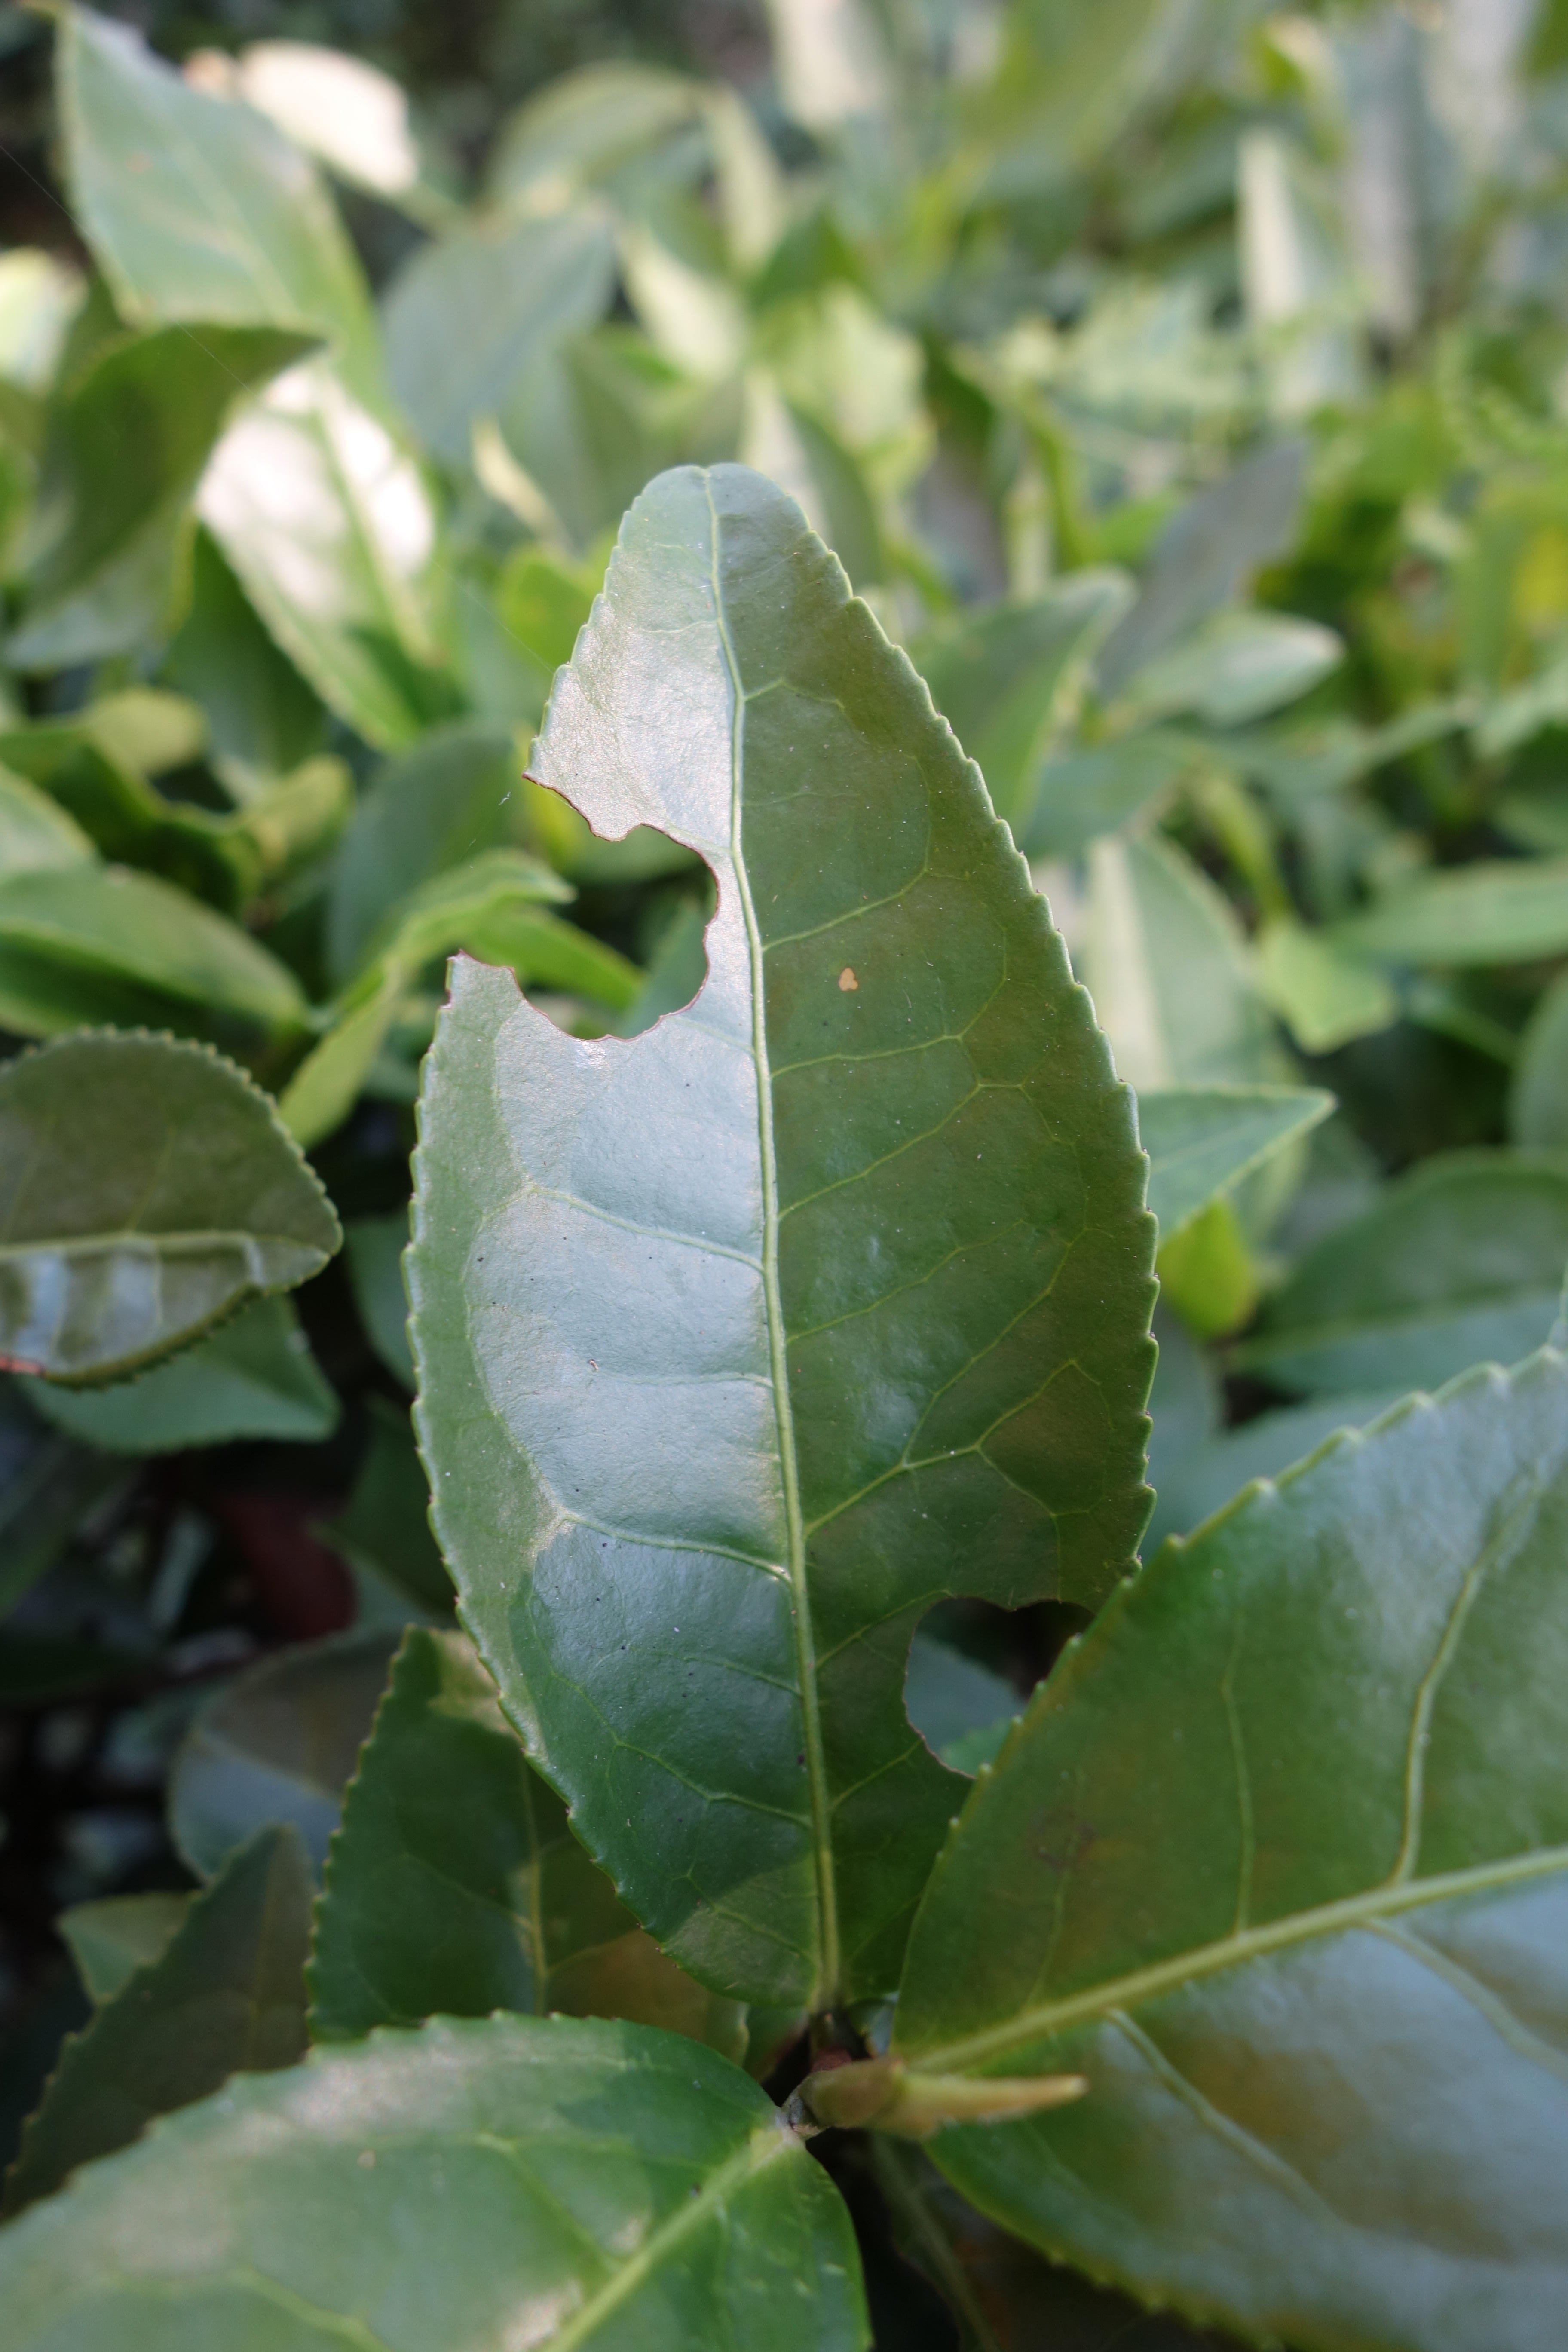chihuo_high: (402, 458, 1164, 2040)
